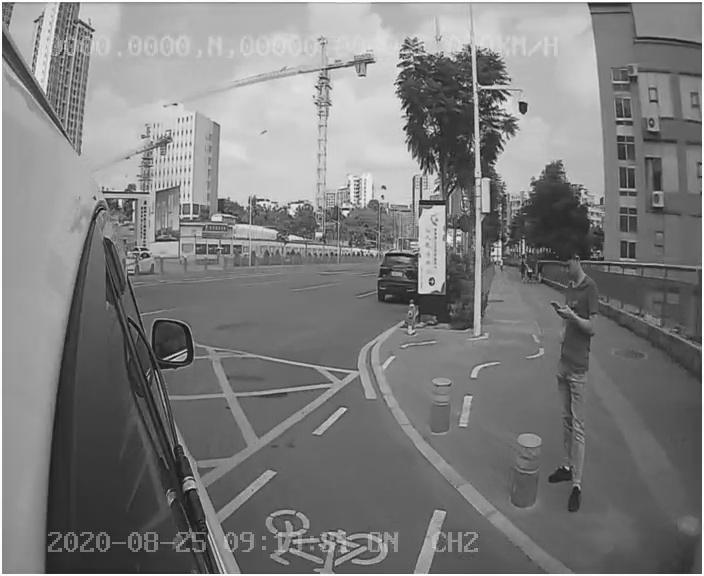person: (548, 246, 605, 513)
